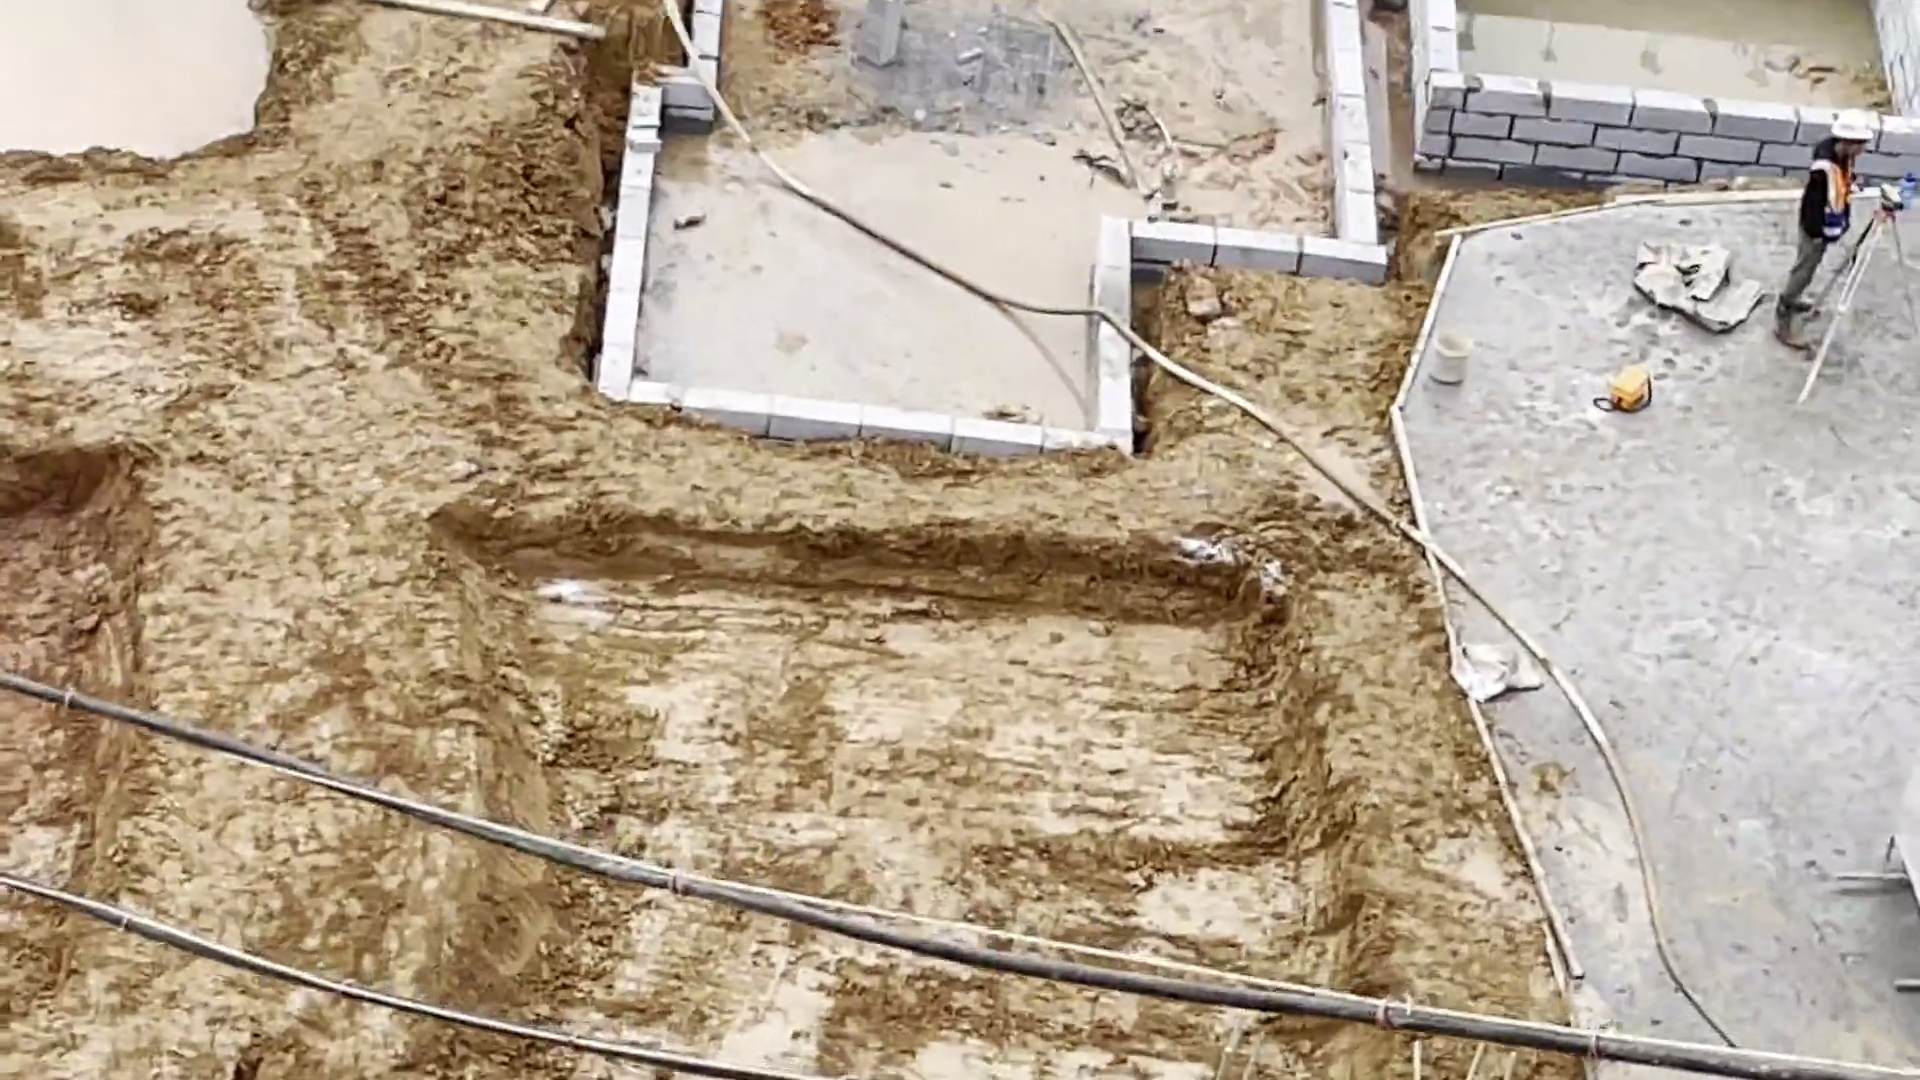helmet: (1824, 101, 1879, 154)
person: (1781, 99, 1872, 367)
vest: (1806, 155, 1858, 249)
